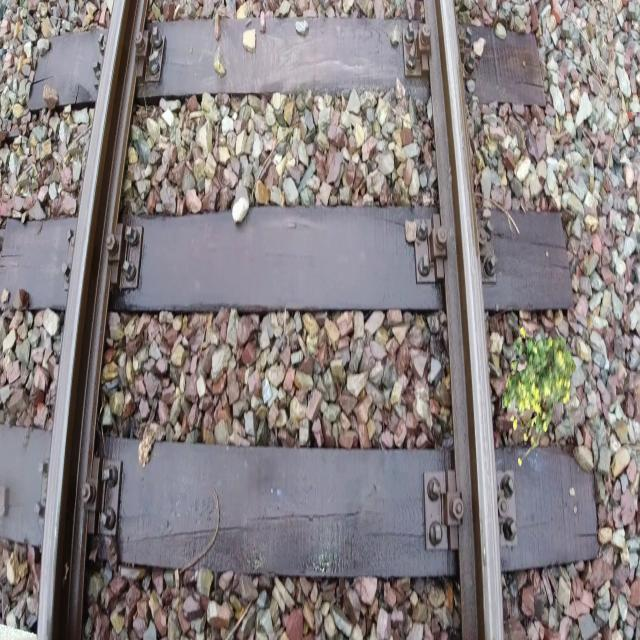Plant: (502, 327, 577, 467)
